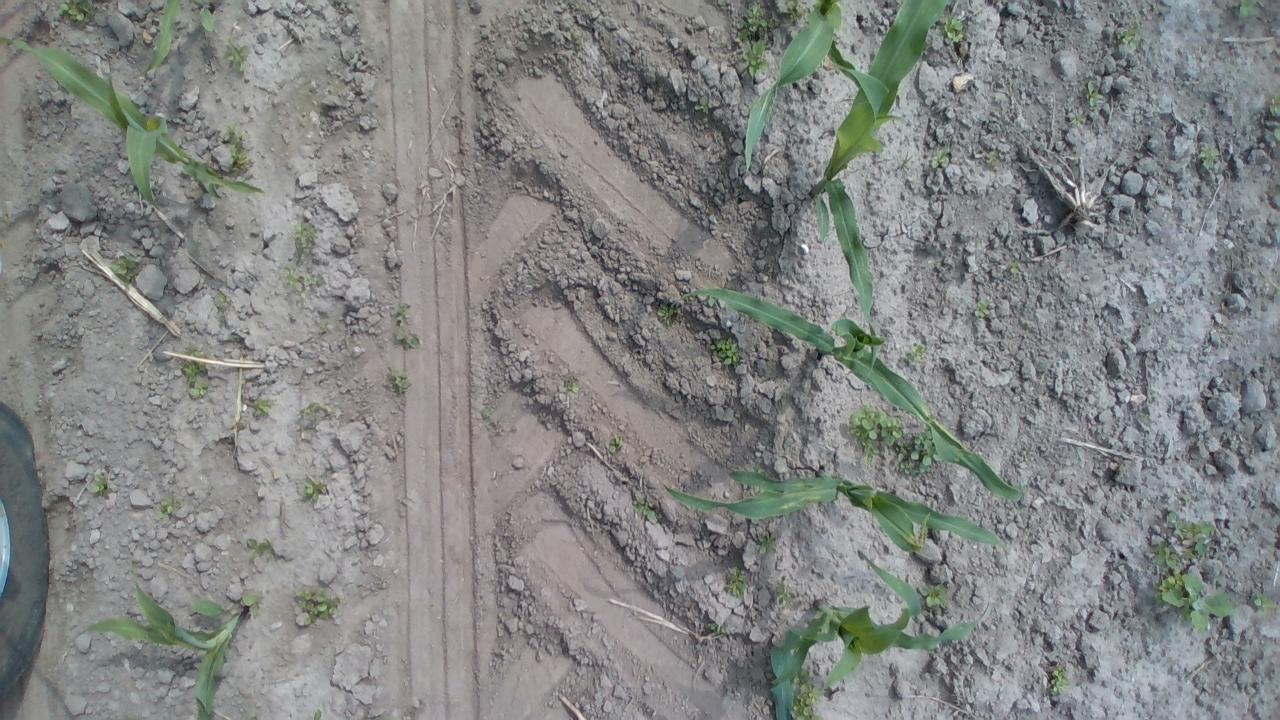Maize: (670, 289, 1024, 502), (809, 0, 950, 382), (0, 35, 266, 214), (768, 549, 994, 720), (661, 471, 1005, 552), (75, 562, 251, 720), (744, 0, 842, 167), (134, 0, 180, 80), (191, 0, 216, 32), (362, 716, 403, 720)
Weeds: (1152, 565, 1240, 632), (1150, 507, 1217, 573), (849, 401, 902, 468), (294, 586, 342, 628), (896, 427, 936, 474), (221, 120, 254, 176), (386, 300, 422, 350), (282, 259, 324, 300), (739, 34, 768, 78), (111, 252, 146, 288), (222, 32, 250, 73), (292, 214, 318, 255), (54, 0, 96, 25), (707, 336, 742, 366), (794, 682, 821, 720), (384, 363, 413, 396), (723, 564, 749, 600), (938, 12, 969, 42), (298, 474, 326, 504), (244, 534, 276, 560), (744, 1, 769, 34), (774, 576, 799, 608), (918, 583, 948, 609), (245, 397, 277, 421), (1114, 20, 1140, 48), (242, 588, 264, 620), (297, 401, 334, 420), (1198, 140, 1220, 171), (630, 498, 656, 523), (930, 143, 954, 170), (904, 342, 930, 366), (1254, 590, 1278, 616), (656, 292, 675, 324), (1084, 78, 1106, 105), (1049, 664, 1070, 692), (1234, 0, 1264, 19), (786, 0, 809, 24), (179, 362, 205, 383), (157, 494, 176, 518), (733, 20, 750, 46), (88, 472, 108, 494), (758, 531, 777, 554), (183, 338, 204, 358), (606, 435, 626, 456), (188, 382, 208, 402), (564, 374, 582, 394), (694, 93, 710, 115), (986, 148, 1004, 166), (974, 300, 992, 318), (210, 288, 228, 306), (1270, 90, 1280, 121), (900, 150, 914, 172), (706, 620, 728, 633), (1071, 108, 1085, 128), (794, 668, 812, 682), (315, 320, 329, 338), (1179, 488, 1196, 502), (482, 407, 496, 422), (1009, 258, 1020, 276), (1269, 181, 1280, 196), (220, 310, 228, 330), (168, 472, 178, 484), (573, 30, 585, 40), (314, 709, 324, 720), (1140, 414, 1151, 424), (1273, 128, 1280, 143), (717, 0, 728, 9)
